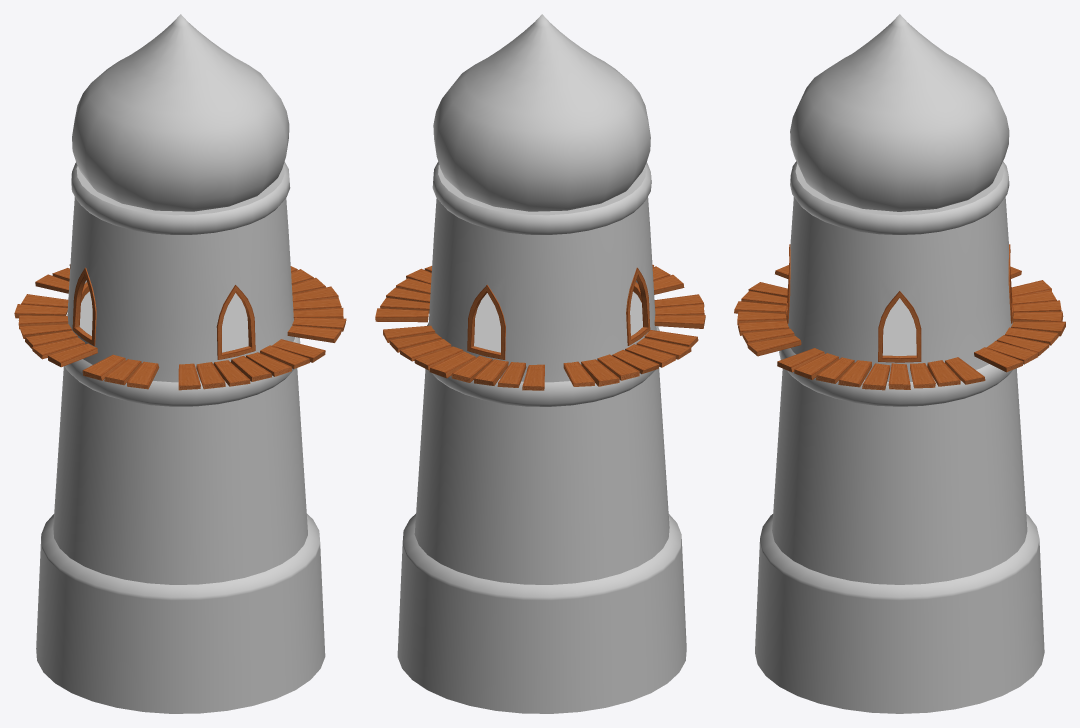
The model's file is tower.fbx.
3 views of the same model, side by side, from view 1: azimuth 30°, elevation 25°; view 2: azimuth 150°, elevation 25°; view 3: azimuth 270°, elevation 25° (orthographic).
Parts seen in each view (by area): view 1: Circle; view 2: Circle; view 3: Circle.
Part boxes in pixels (box(x1,y1,x2,y2)): Circle: box(14, 14, 346, 713); Circle: box(375, 14, 705, 713); Circle: box(734, 14, 1065, 713).
Size of the model in its own units: 1189 by 2527 by 1190.
